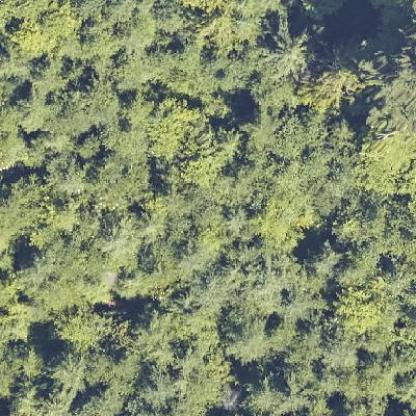tree-top: (301, 49, 361, 112), (147, 98, 196, 161), (51, 306, 110, 352), (333, 283, 384, 333), (239, 382, 305, 415), (320, 333, 361, 374), (307, 240, 342, 279)
